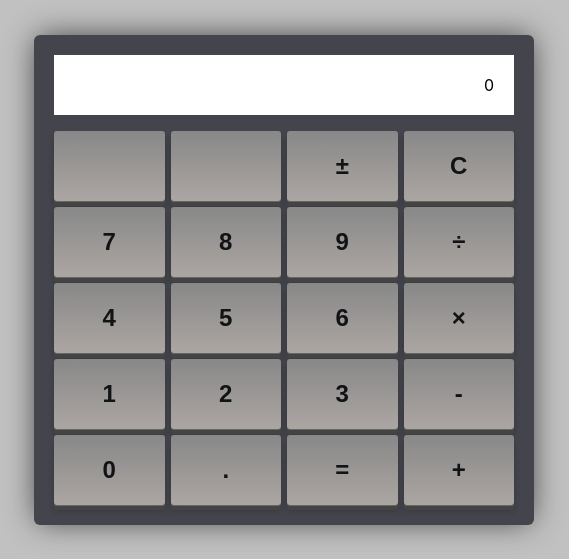
Test: Basic calculations › the numbers are added correctly
The width and height of the screenshot is (569, 559).
Expected: the text with test id "calculator-display-input" reads "0", [484, 75, 494, 95]
Click the button with test id "calculator-key-1" at [109, 394], box [54, 359, 164, 429]
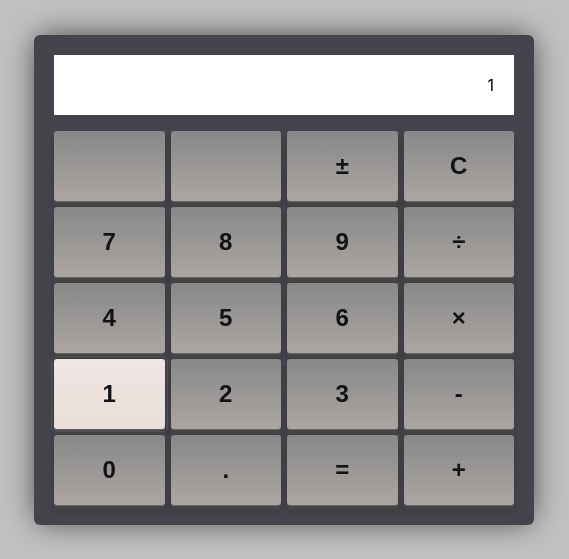
Click the button with test id "calculator-operator-plus" at [459, 470], box [404, 435, 514, 505]
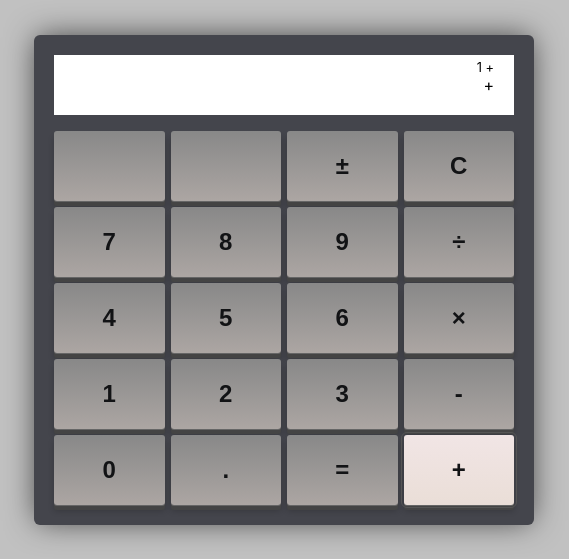
Click the button with test id "calculator-key-1" at [109, 394], box [54, 359, 164, 429]
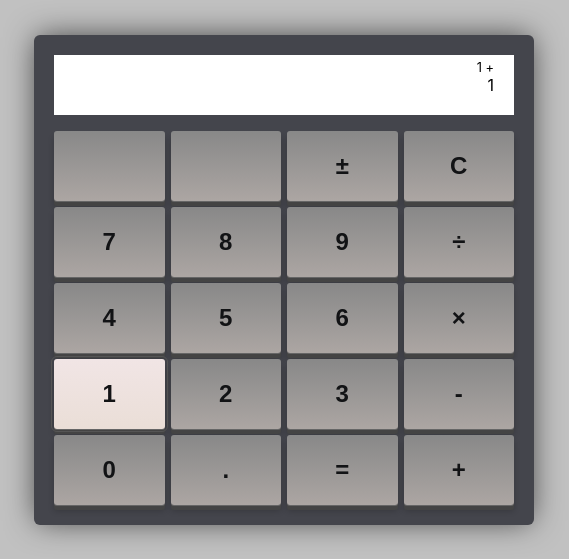
Click the button with test id "calculator-key-equals" at [342, 470], box [287, 435, 398, 505]
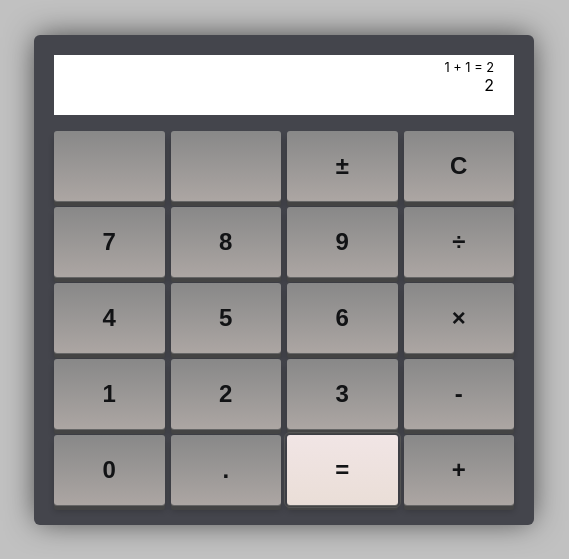
Expected: the text with test id "calculator-display-input" reads "2", [484, 75, 494, 95]
